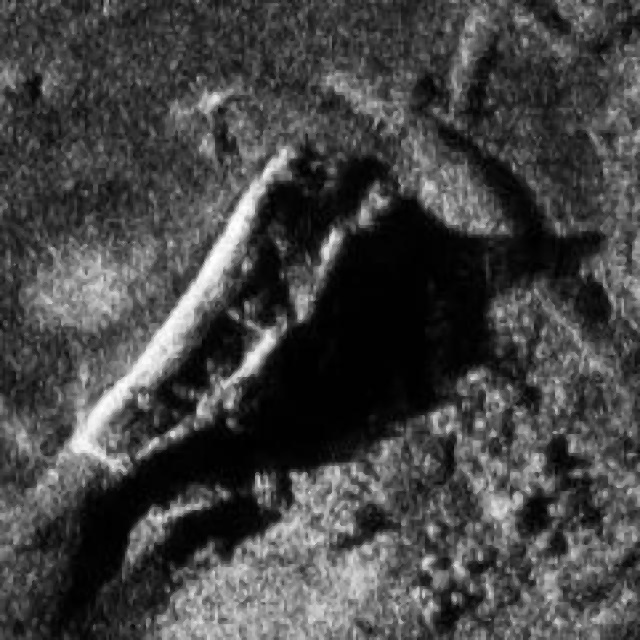Ship: (43, 134, 402, 478)
